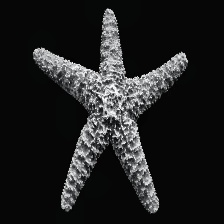starfish: (21, 34, 190, 219)
